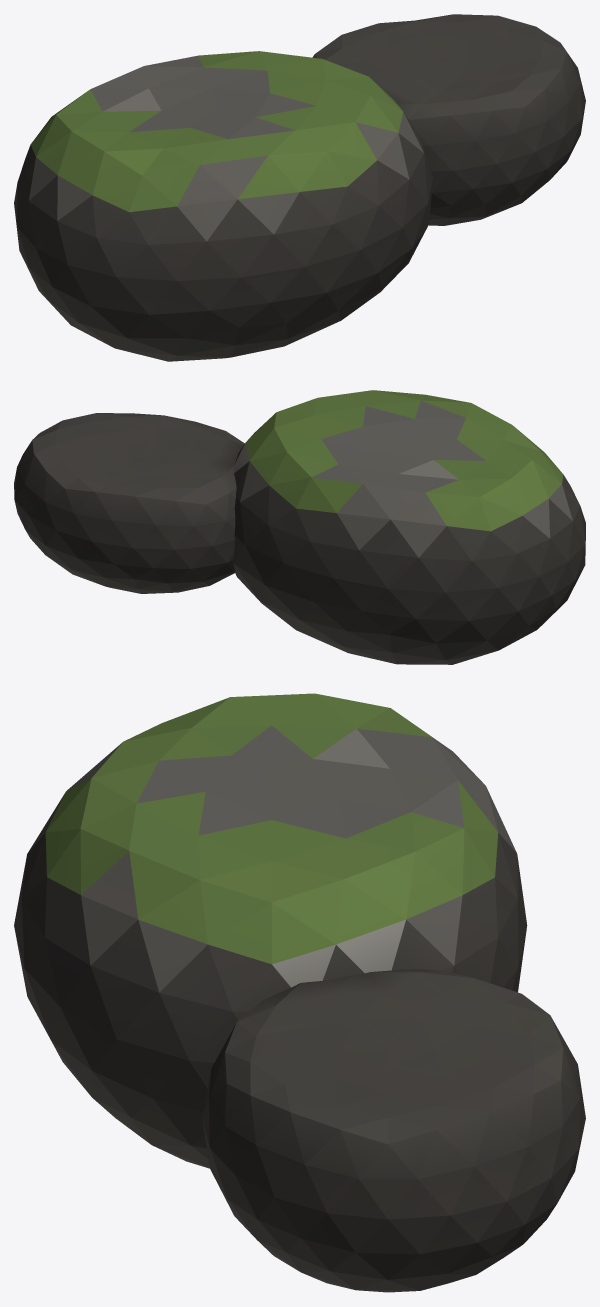
Rendered from creek_stone_b.glb.
3 views of the same model, one above another, from view 1: azimuth 30°, elevation 25°; view 2: azimuth 150°, elevation 25°; view 3: azimuth 270°, elevation 25° (orthographic). The views are drawn at different scales.
Visible parts, largest first — view 1: creek_stone_b; view 2: creek_stone_b; view 3: creek_stone_b.
Boxes of the visible parts, bbox=[...] form: creek_stone_b: bbox=[14, 14, 585, 361]; creek_stone_b: bbox=[14, 390, 585, 664]; creek_stone_b: bbox=[14, 693, 585, 1292].
Size of the model in its own units: 1.02 by 0.4059 by 0.5908.
